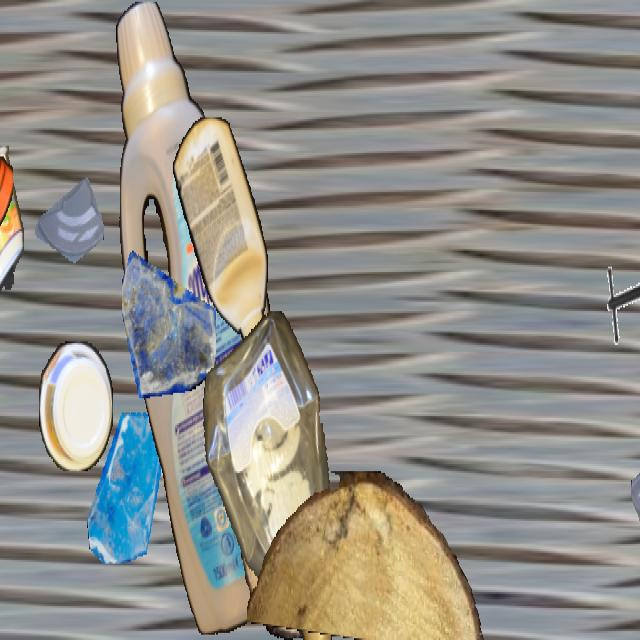glass: (122, 231, 216, 398), (85, 412, 169, 562), (35, 166, 103, 286), (631, 416, 640, 572)
metal: (237, 267, 299, 377), (598, 261, 640, 347)
plastic: (114, 2, 318, 634), (198, 311, 344, 638), (173, 117, 267, 345), (39, 342, 113, 469), (0, 146, 23, 320), (0, 2, 12, 229)
wood: (247, 471, 487, 638), (239, 450, 315, 638)
